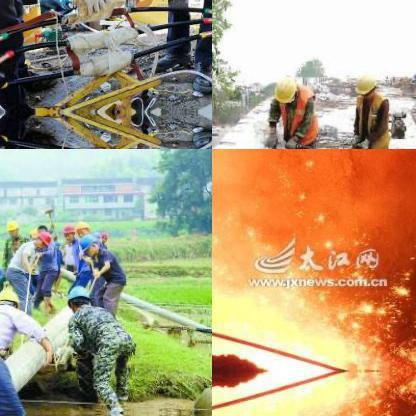Helmet: (268, 72, 304, 104), (352, 70, 380, 98), (64, 282, 90, 312), (0, 283, 22, 313), (78, 232, 98, 254), (31, 228, 50, 246), (75, 218, 91, 236), (60, 220, 74, 240), (4, 218, 18, 235)
